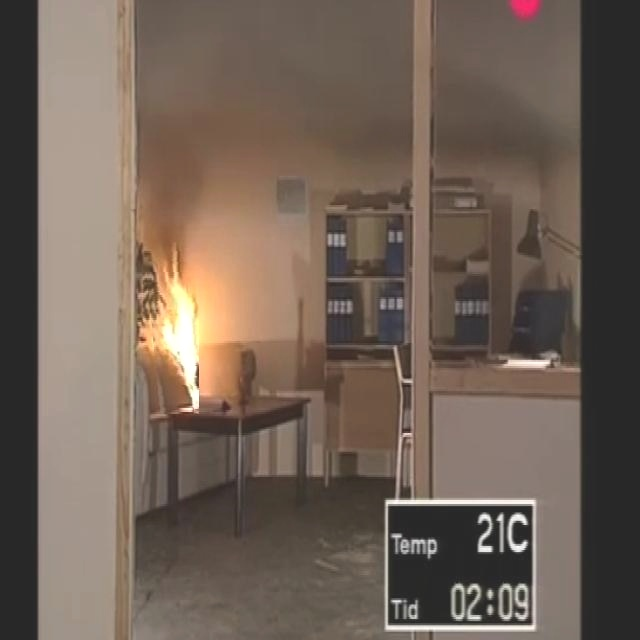fire: (148, 261, 218, 388)
